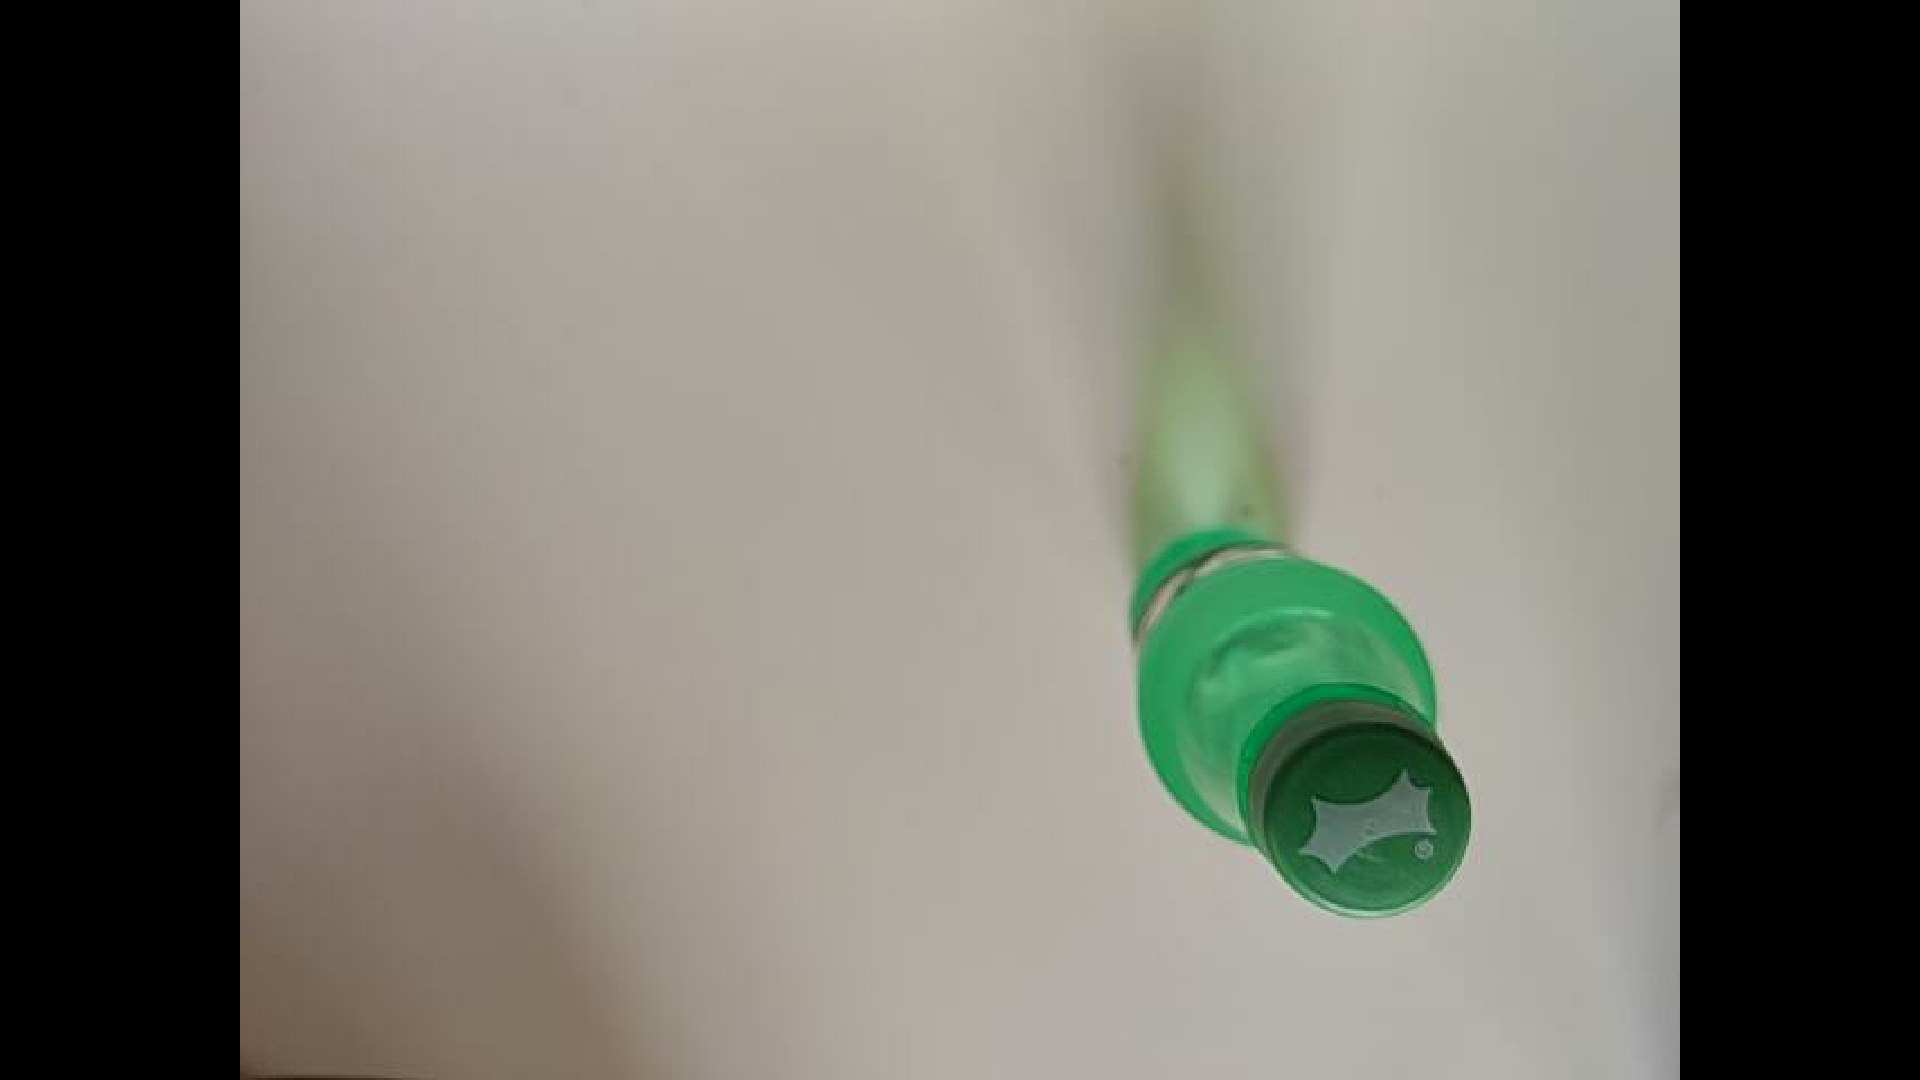sprite: (1127, 524, 1473, 918)
